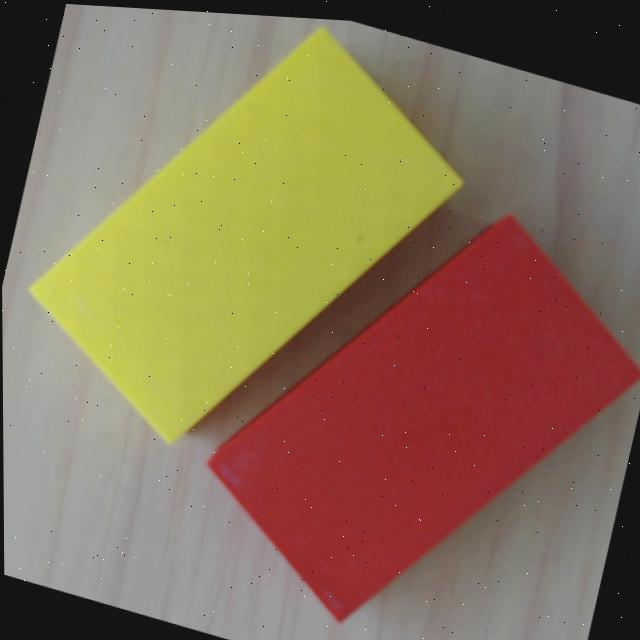Balok-Kuning-1005025: (27, 22, 465, 446)
